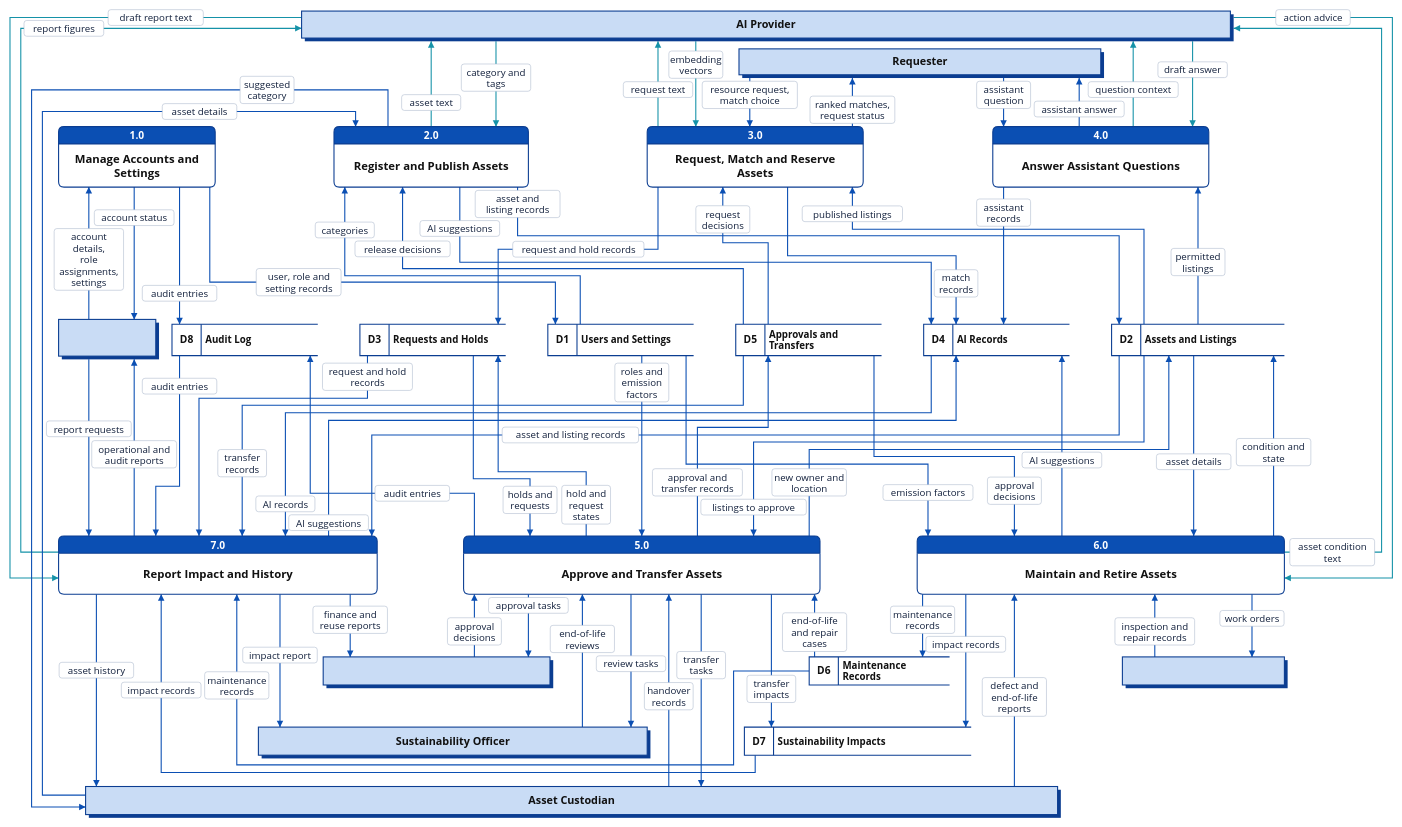
This 1402x827 diagram has some shape labels left out. The shapes that lost their labels are listed below. From the top down, each one's centre as x and y in pixels, then its label:
At pixel 107 337: "Administrators".
At pixel 436 670: "Approvers".
At pixel 1203 670: "Maintenance Staff".
